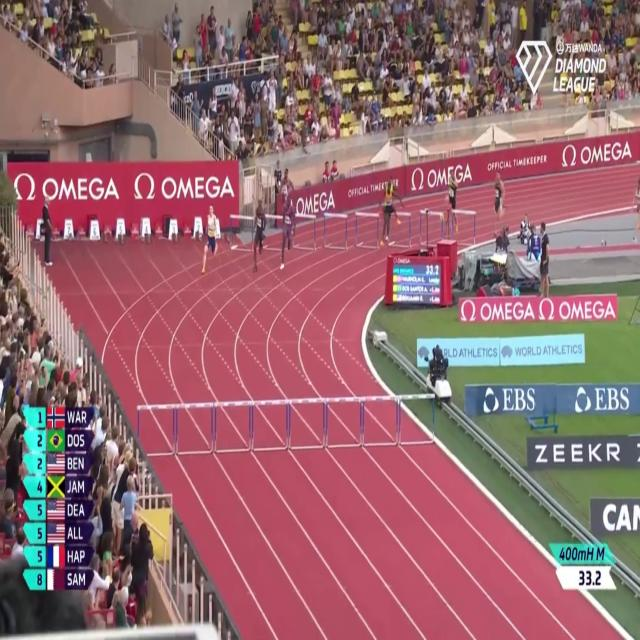athlete: (380, 172, 404, 257), (198, 202, 222, 282), (274, 200, 298, 274), (248, 194, 267, 276), (443, 166, 464, 237), (273, 163, 294, 229), (489, 168, 509, 236)
hurdle: (134, 400, 175, 462), (174, 397, 214, 458), (212, 397, 253, 453), (362, 391, 399, 451), (289, 393, 326, 452), (252, 395, 290, 452), (326, 393, 362, 450), (400, 391, 436, 447), (262, 211, 291, 257), (323, 209, 350, 256), (228, 212, 258, 253), (449, 209, 477, 249), (386, 209, 412, 252), (295, 209, 318, 255), (354, 210, 378, 252), (419, 209, 444, 249)
